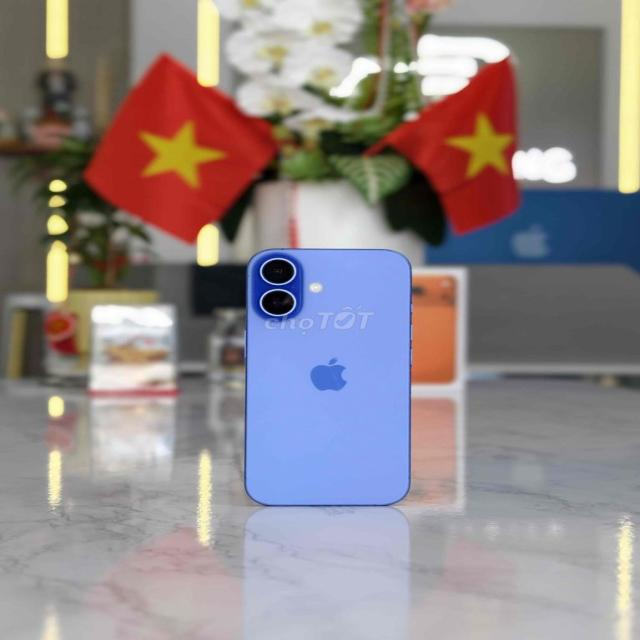gen_16: (225, 238, 431, 522)
